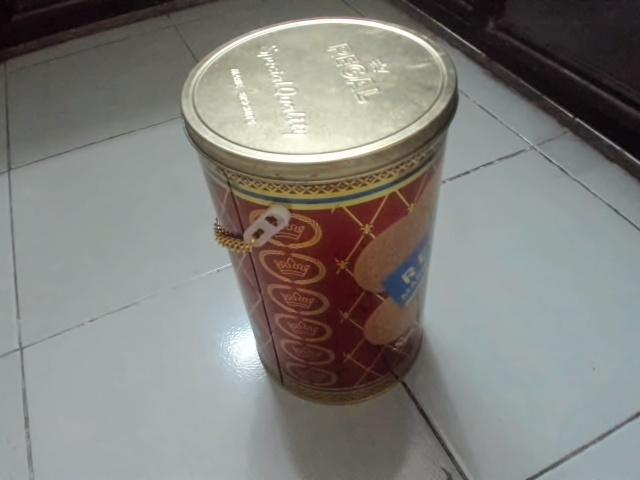anorganik: (173, 11, 465, 409)
